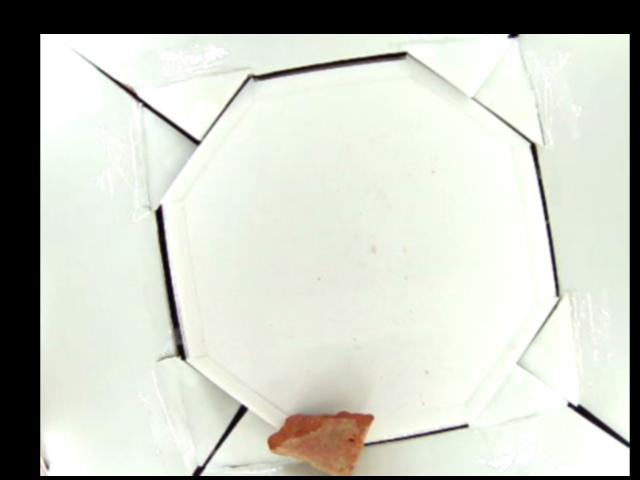Brisk: (266, 411, 375, 474)
